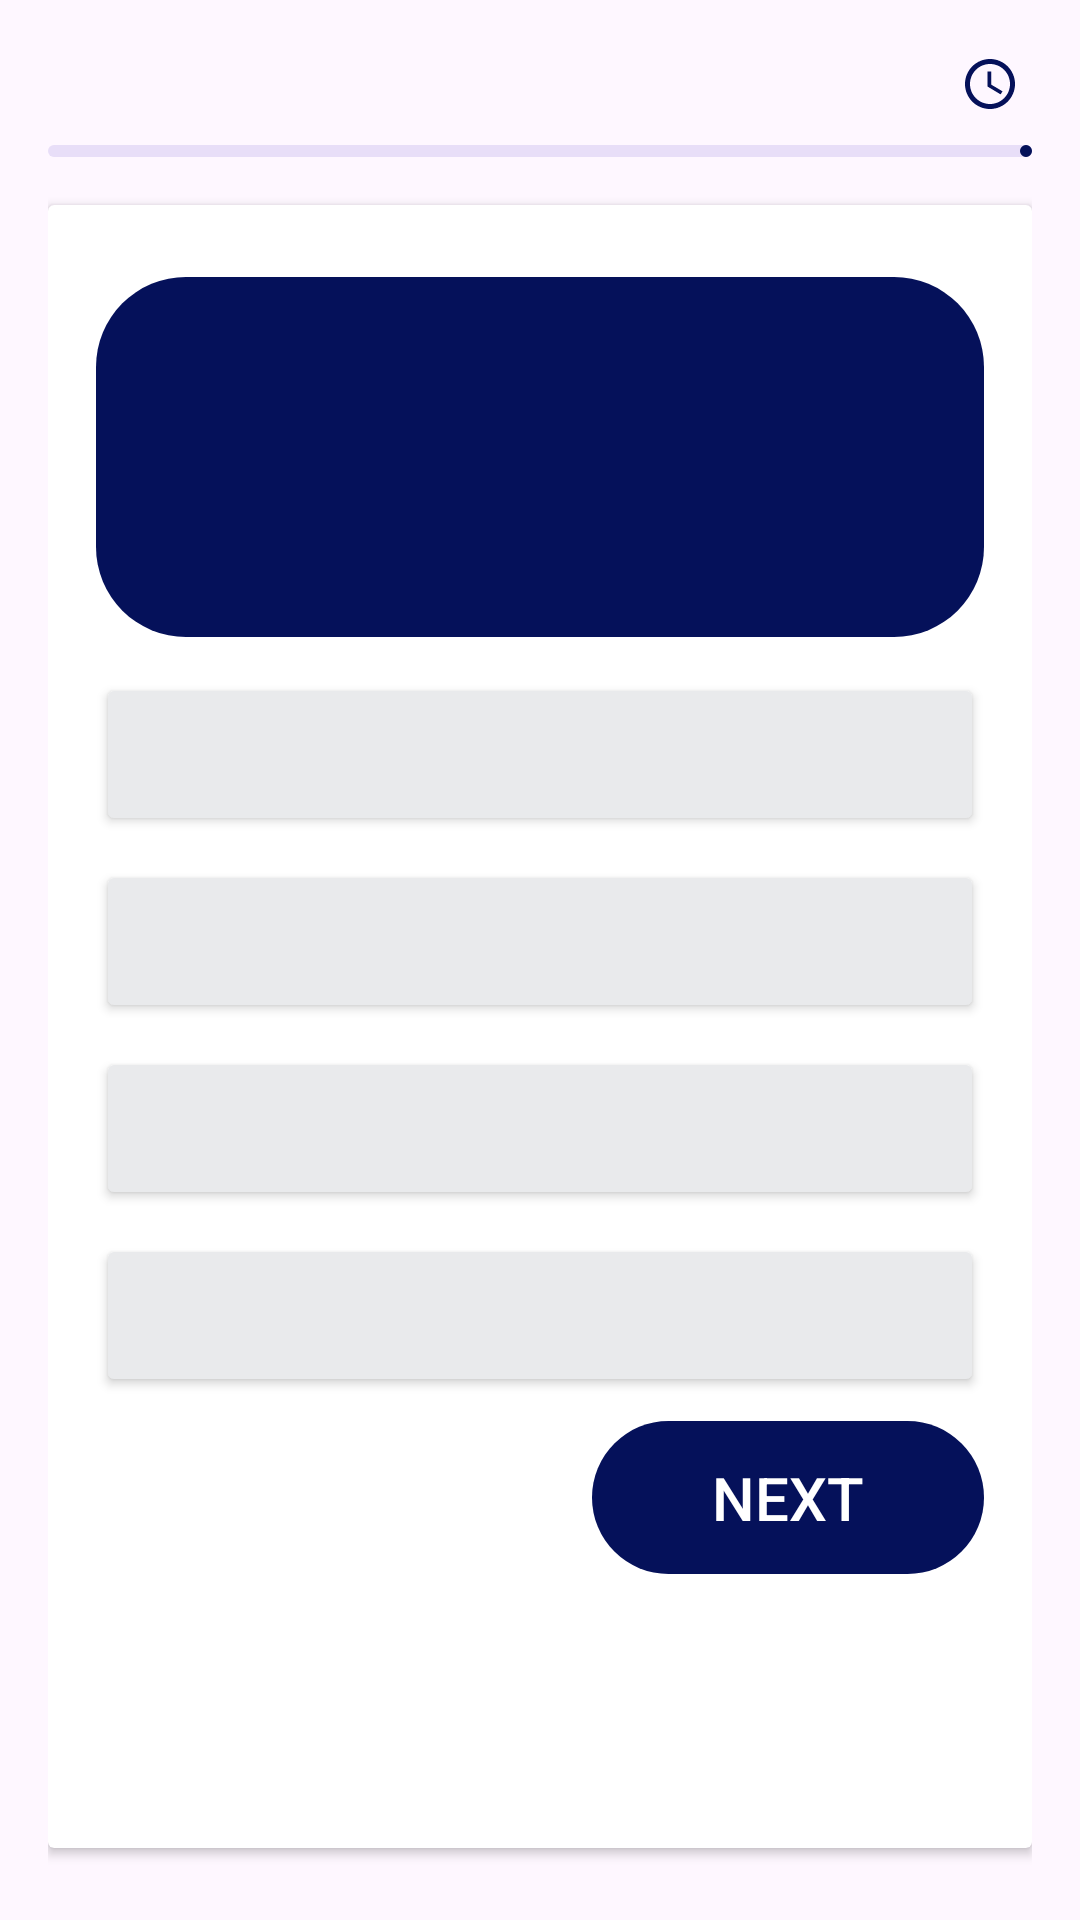

Icon bounding boxes for this 1080x1920 phone screenshot, format (x1, y1, x2, y2):
timer: (965, 59, 1015, 109)
